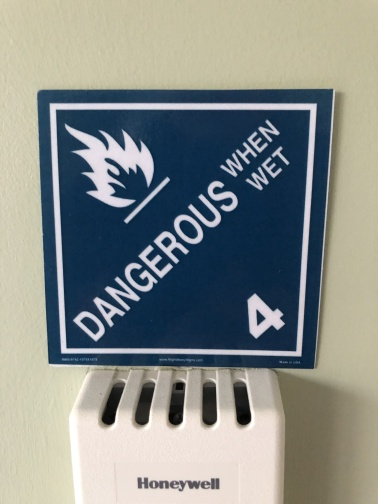DangerousWhenWet: (40, 88, 310, 358)
